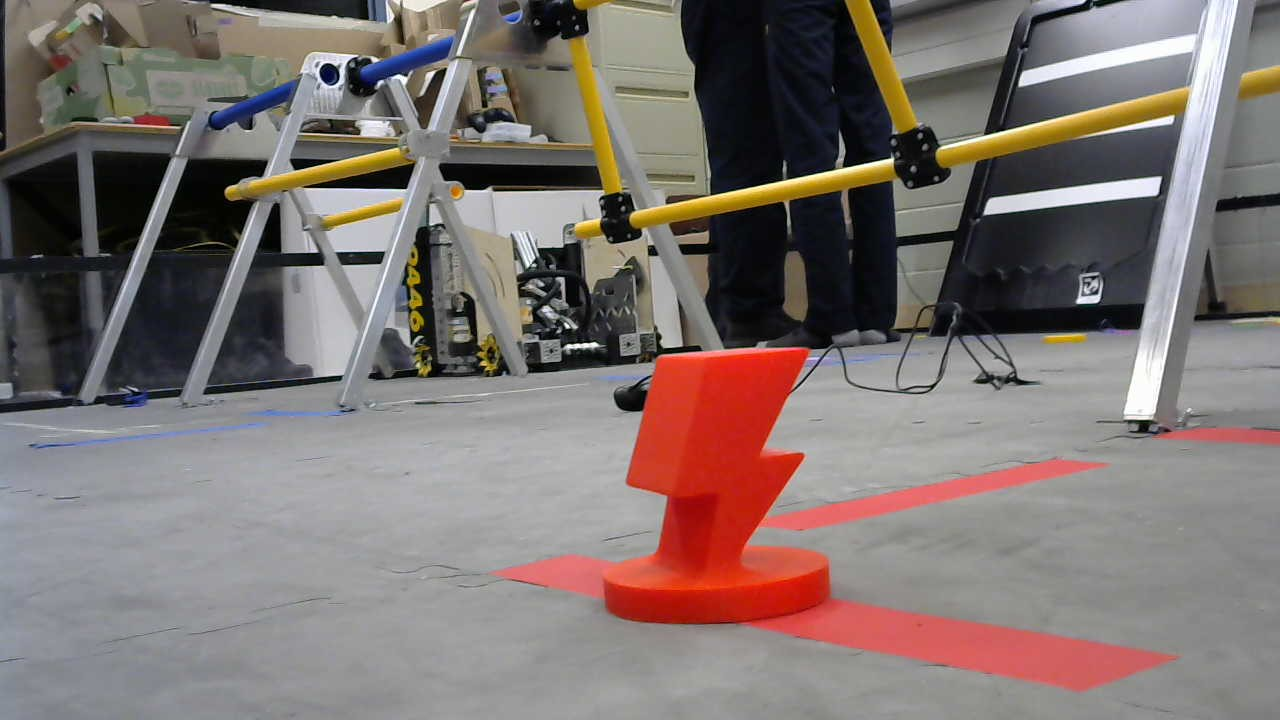redobject: (605, 343, 832, 623)
